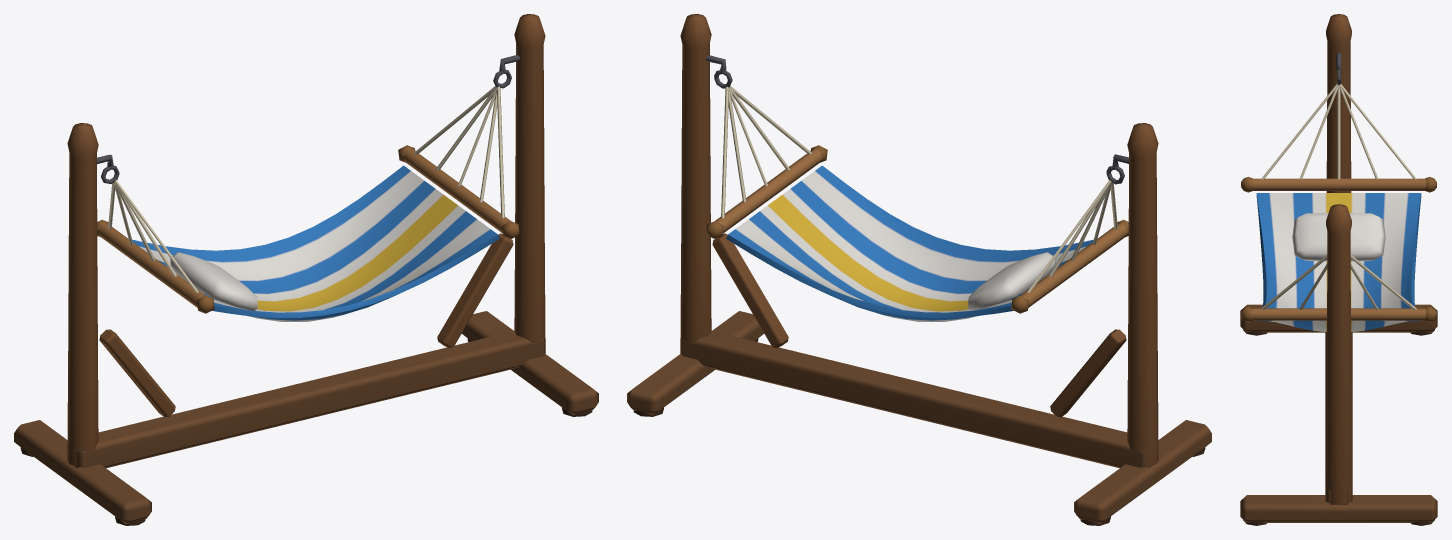
The model's file is furn_hammock.glb.
3 renders of one model, left to right at view 1: azimuth 30°, elevation 25°; view 2: azimuth 150°, elevation 25°; view 3: azimuth 270°, elevation 25°, orthographic. The views are drawn at different scales.
Parts seen in each view (by area): view 1: furn_hammock_main; view 2: furn_hammock_main; view 3: furn_hammock_main.
Boxes of the visible parts, left/top/right/bottom form: furn_hammock_main: left=14, top=14, right=598, bottom=525; furn_hammock_main: left=627, top=14, right=1211, bottom=525; furn_hammock_main: left=1240, top=14, right=1437, bottom=525.
Bounding box in the file's own units: 1.76 × 1.26 × 0.72.
